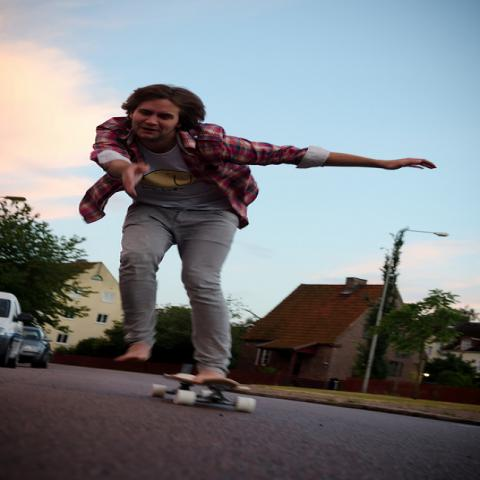car: (0, 290, 54, 370)
